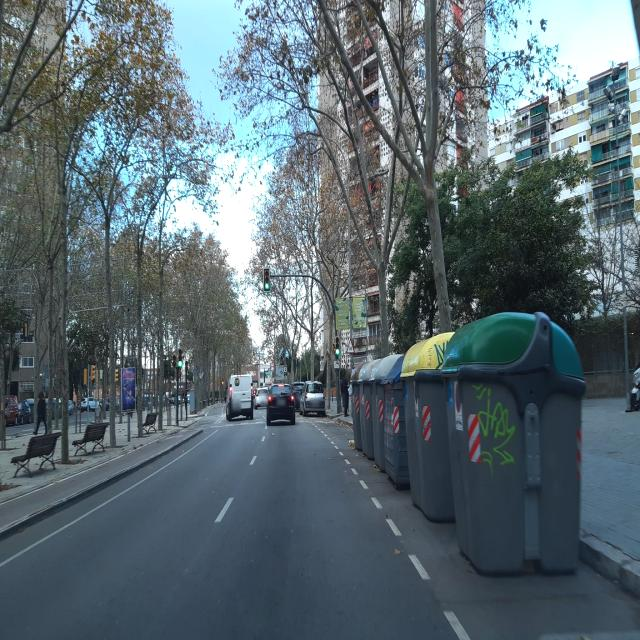car: (266, 383, 296, 427), (226, 374, 254, 421), (301, 380, 326, 418), (628, 348, 640, 412), (5, 399, 32, 426), (294, 384, 305, 412), (80, 396, 98, 411)
